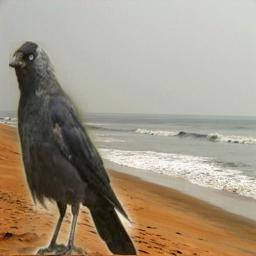Crow: (9, 41, 139, 255)
